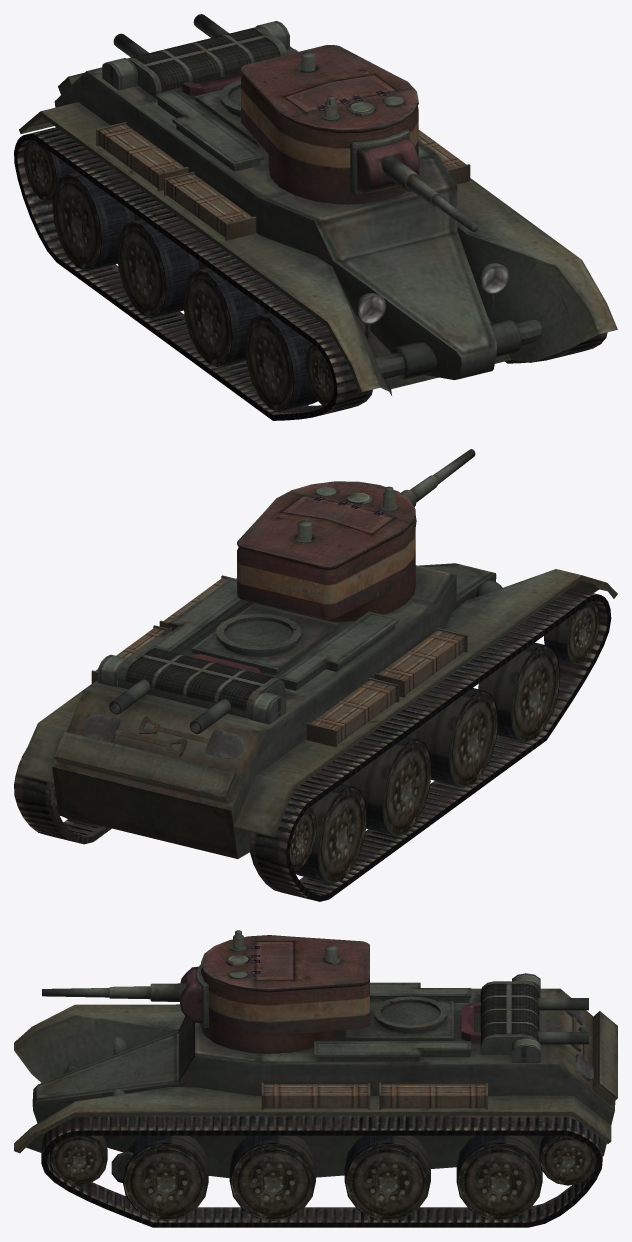
3 renders of one model, top to bottom at view 1: azimuth 30°, elevation 25°; view 2: azimuth 150°, elevation 25°; view 3: azimuth 270°, elevation 25°, orthographic. The views are drawn at different scales.
Visible parts, largest first — view 1: 重坦克 SLBT; view 2: 重坦克 SLBT; view 3: 重坦克 SLBT.
Boxes of the visible parts, box(x1,y1,x2,y2) form: 重坦克 SLBT: box(14, 14, 617, 420); 重坦克 SLBT: box(14, 449, 617, 901); 重坦克 SLBT: box(14, 930, 617, 1227).
Size of the model in its own units: 1.5 by 1.38 by 3.33.
Materials: 3 (3 with a texture image).
